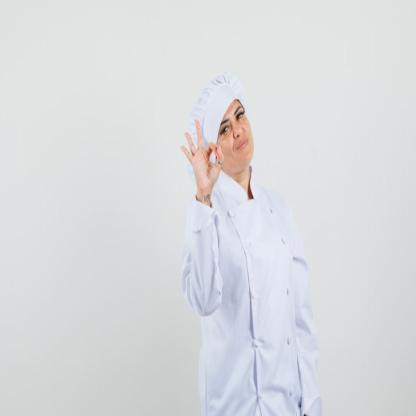ok: (176, 115, 226, 200)
